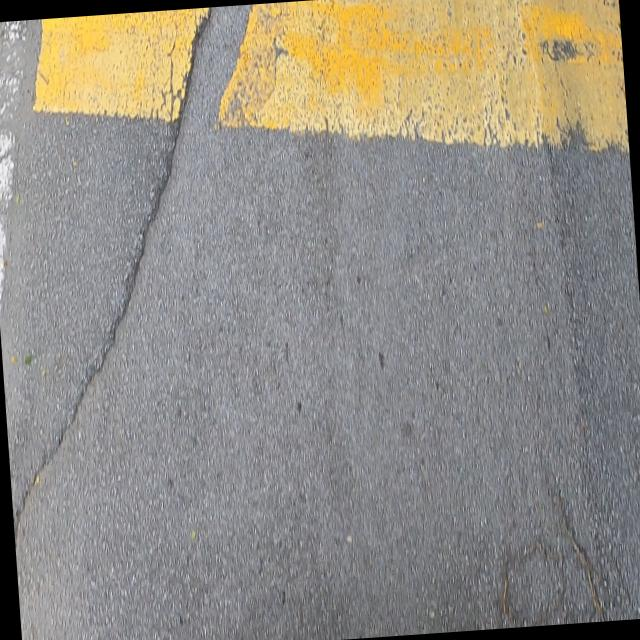Retak-Memanjang: (13, 7, 215, 548)
